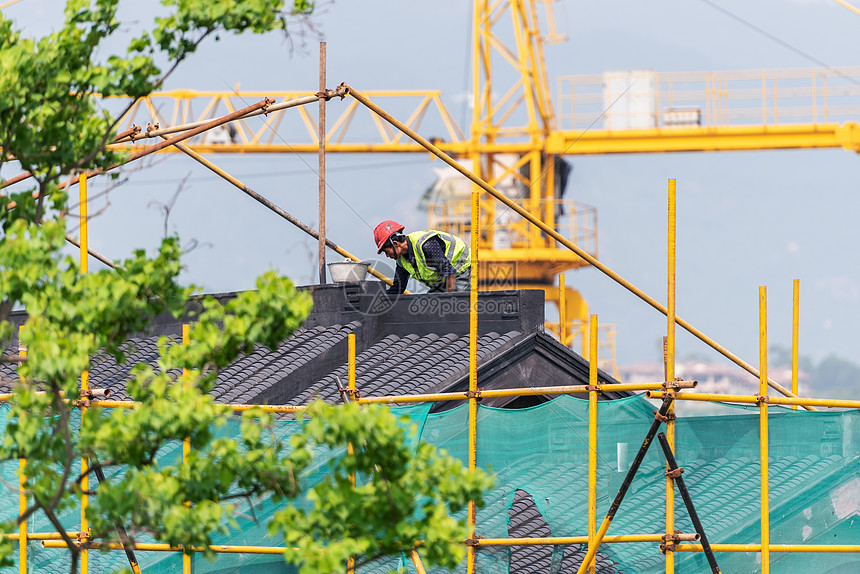safetyhat: (342, 204, 478, 296)
